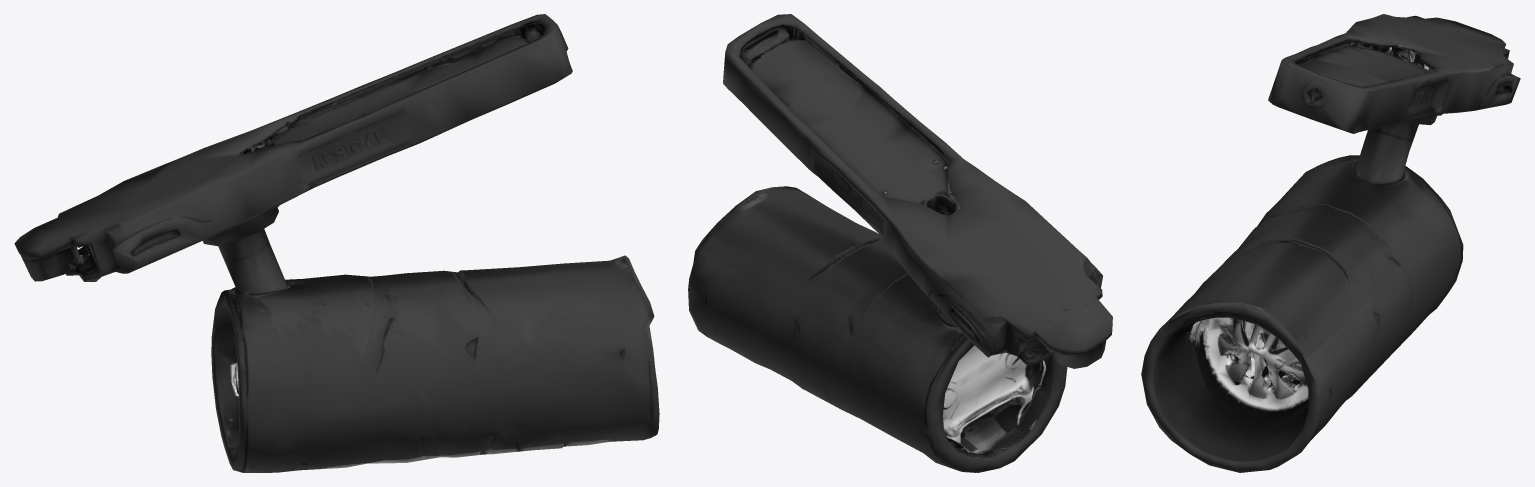
File: luminaria15.obj
3 renders of one model, left to right at view 1: azimuth 30°, elevation 25°; view 2: azimuth 150°, elevation 25°; view 3: azimuth 270°, elevation 25°, orthographic. The views are drawn at different scales.
Visible parts, largest first — view 1: luminaria15; view 2: luminaria15; view 3: luminaria15.
Part boxes in pixels (box(x1,y1,x2,y2)): luminaria15: box(14, 14, 659, 472); luminaria15: box(688, 14, 1112, 472); luminaria15: box(1141, 14, 1520, 472).
Bounding box in the file's own units: 2.27 × 1.63 × 1.45.
Materials: 1 (1 with a texture image).
